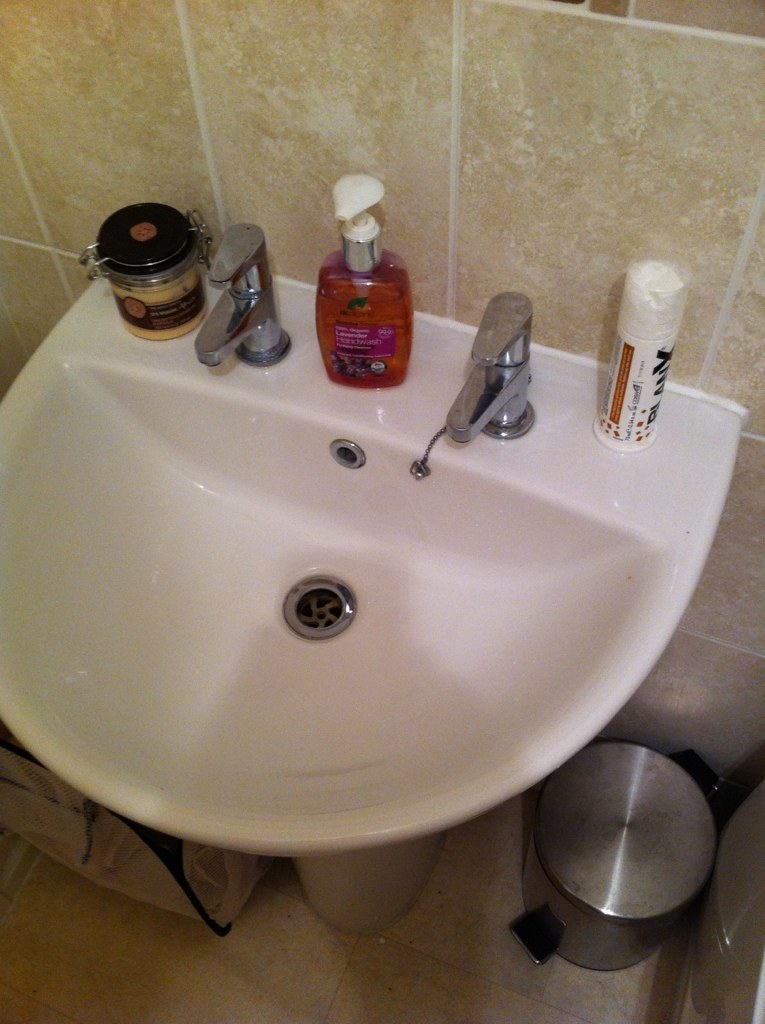tap: (436, 288, 543, 440), (189, 225, 293, 366)
